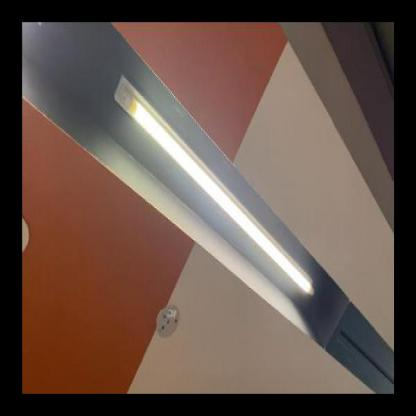light_on: (107, 65, 320, 307)
